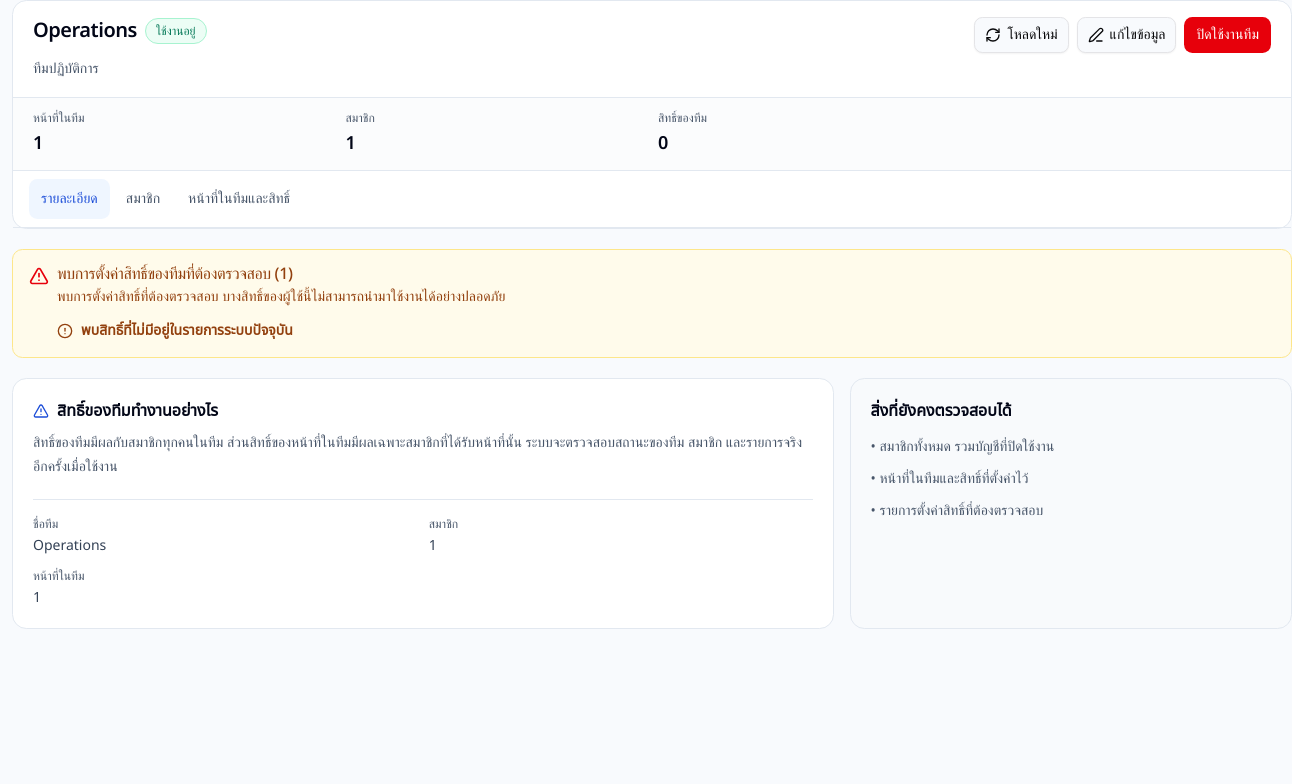
TeamAdministration › keeps configuration issues visible and exposes Team/member sections
Expected: the heading "พบการตั้งค่าสิทธิ์ของทีมที่ต้องตรวจสอบ (1)" is shown, [57,262,292,286]
Click the button "หน้าที่ในทีมและสิทธิ์": [239, 199] box [176,179,302,219]
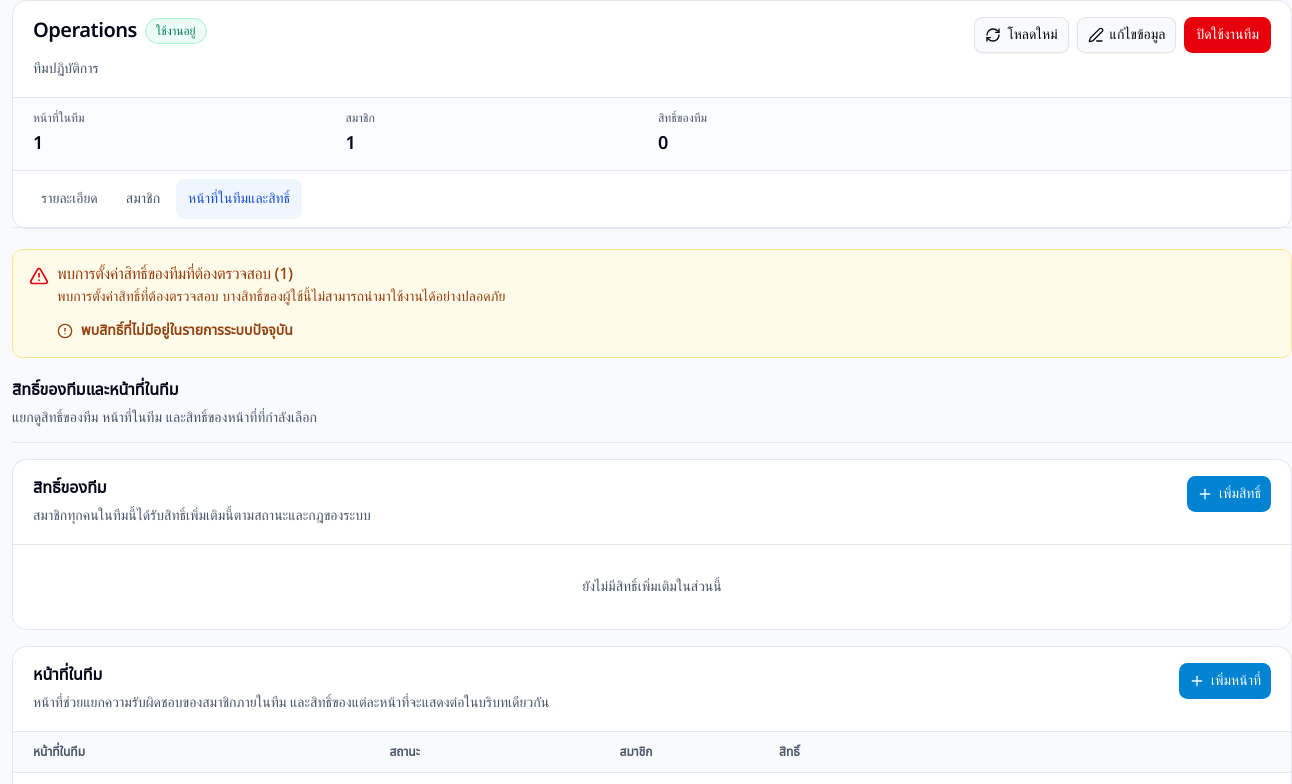
Expected: the button "เพิ่มหน้าที่" is shown, [1179,663,1271,699]
Click the button "สมาชิก": [143, 199] box [114,179,172,219]
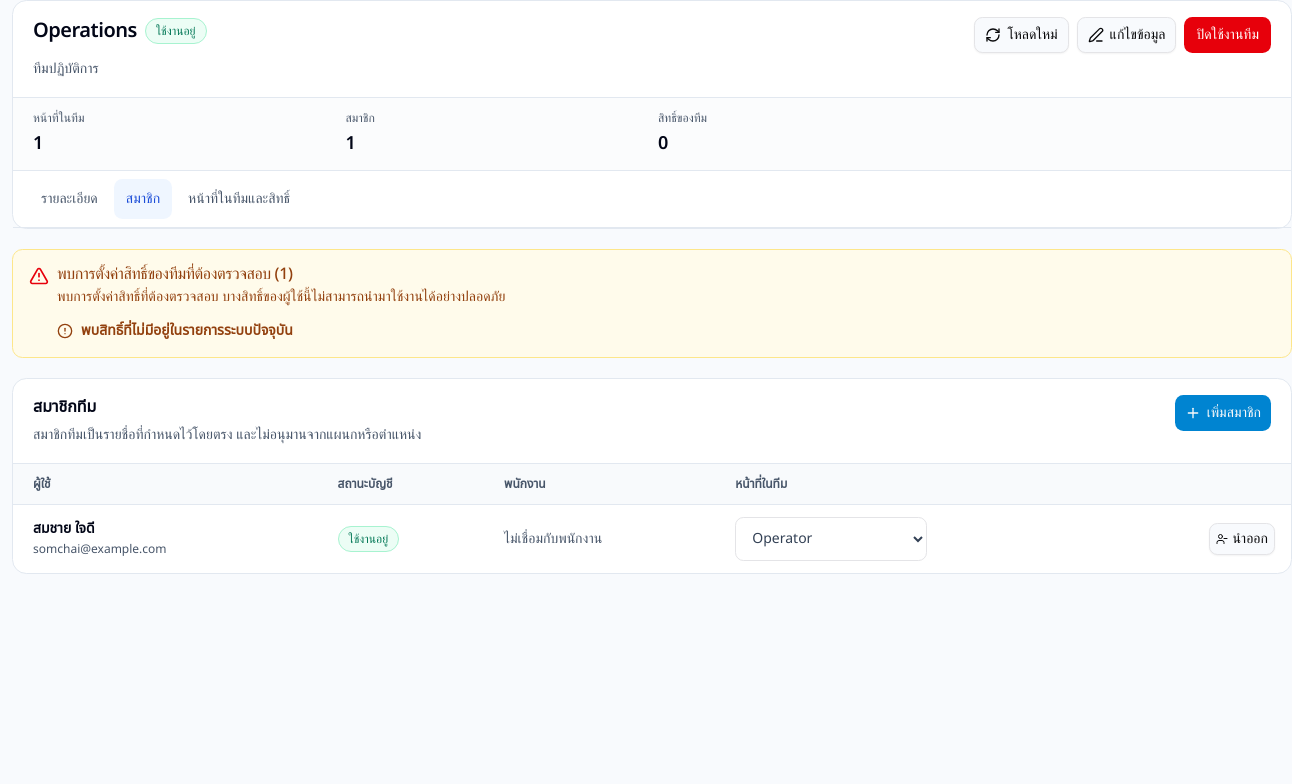
Expected: the text "สมชาย ใจดี" is shown, [33,518,95,539]
Expected: the button with aria-label "นำ สมชาย ใจดี ออกจากทีม" is shown, [1209,523,1275,555]
